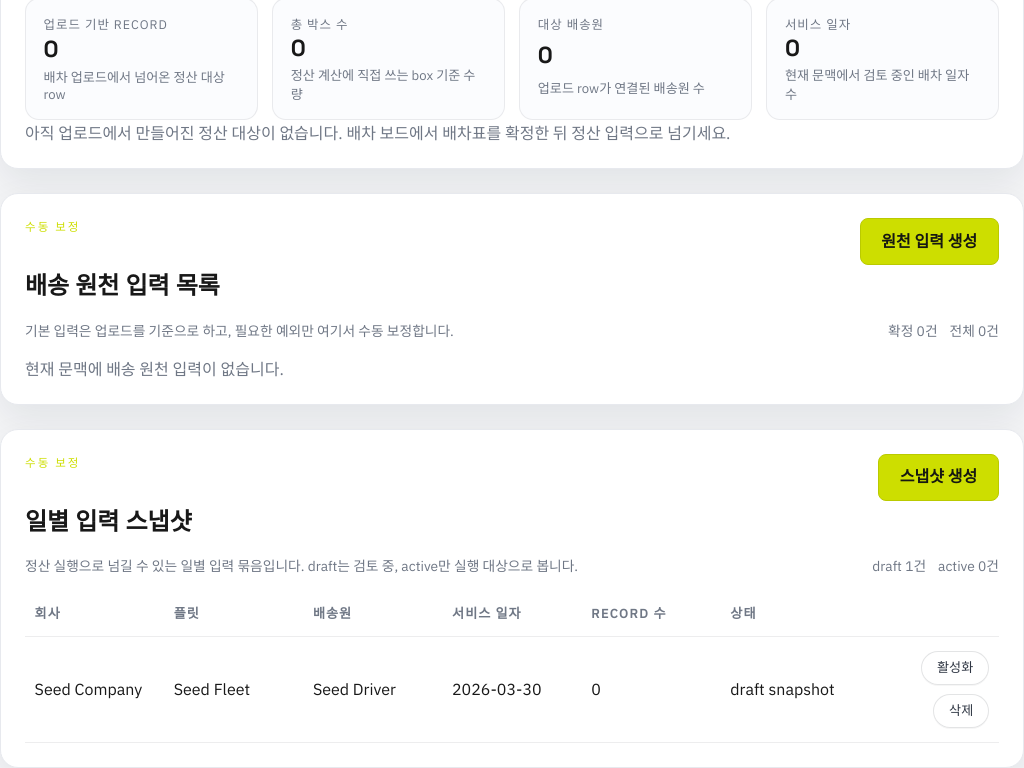
Test: SettlementInputsPage › allows draft snapshots to be activated from the list
(page scrolled)
Click the button "활성화".
click(955, 668)  # box [921, 651, 989, 685]
(page scrolled)
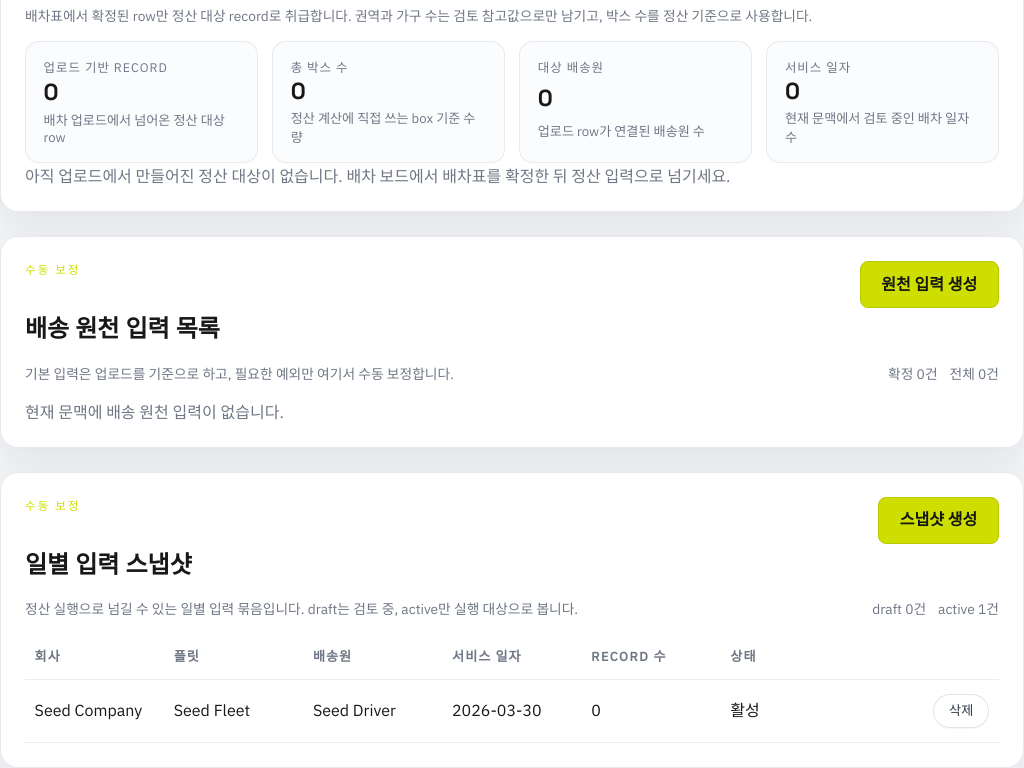
Expected: the text "draft snapshot" is not shown
Expected: the text "활성" is shown, [721, 680, 860, 742]
